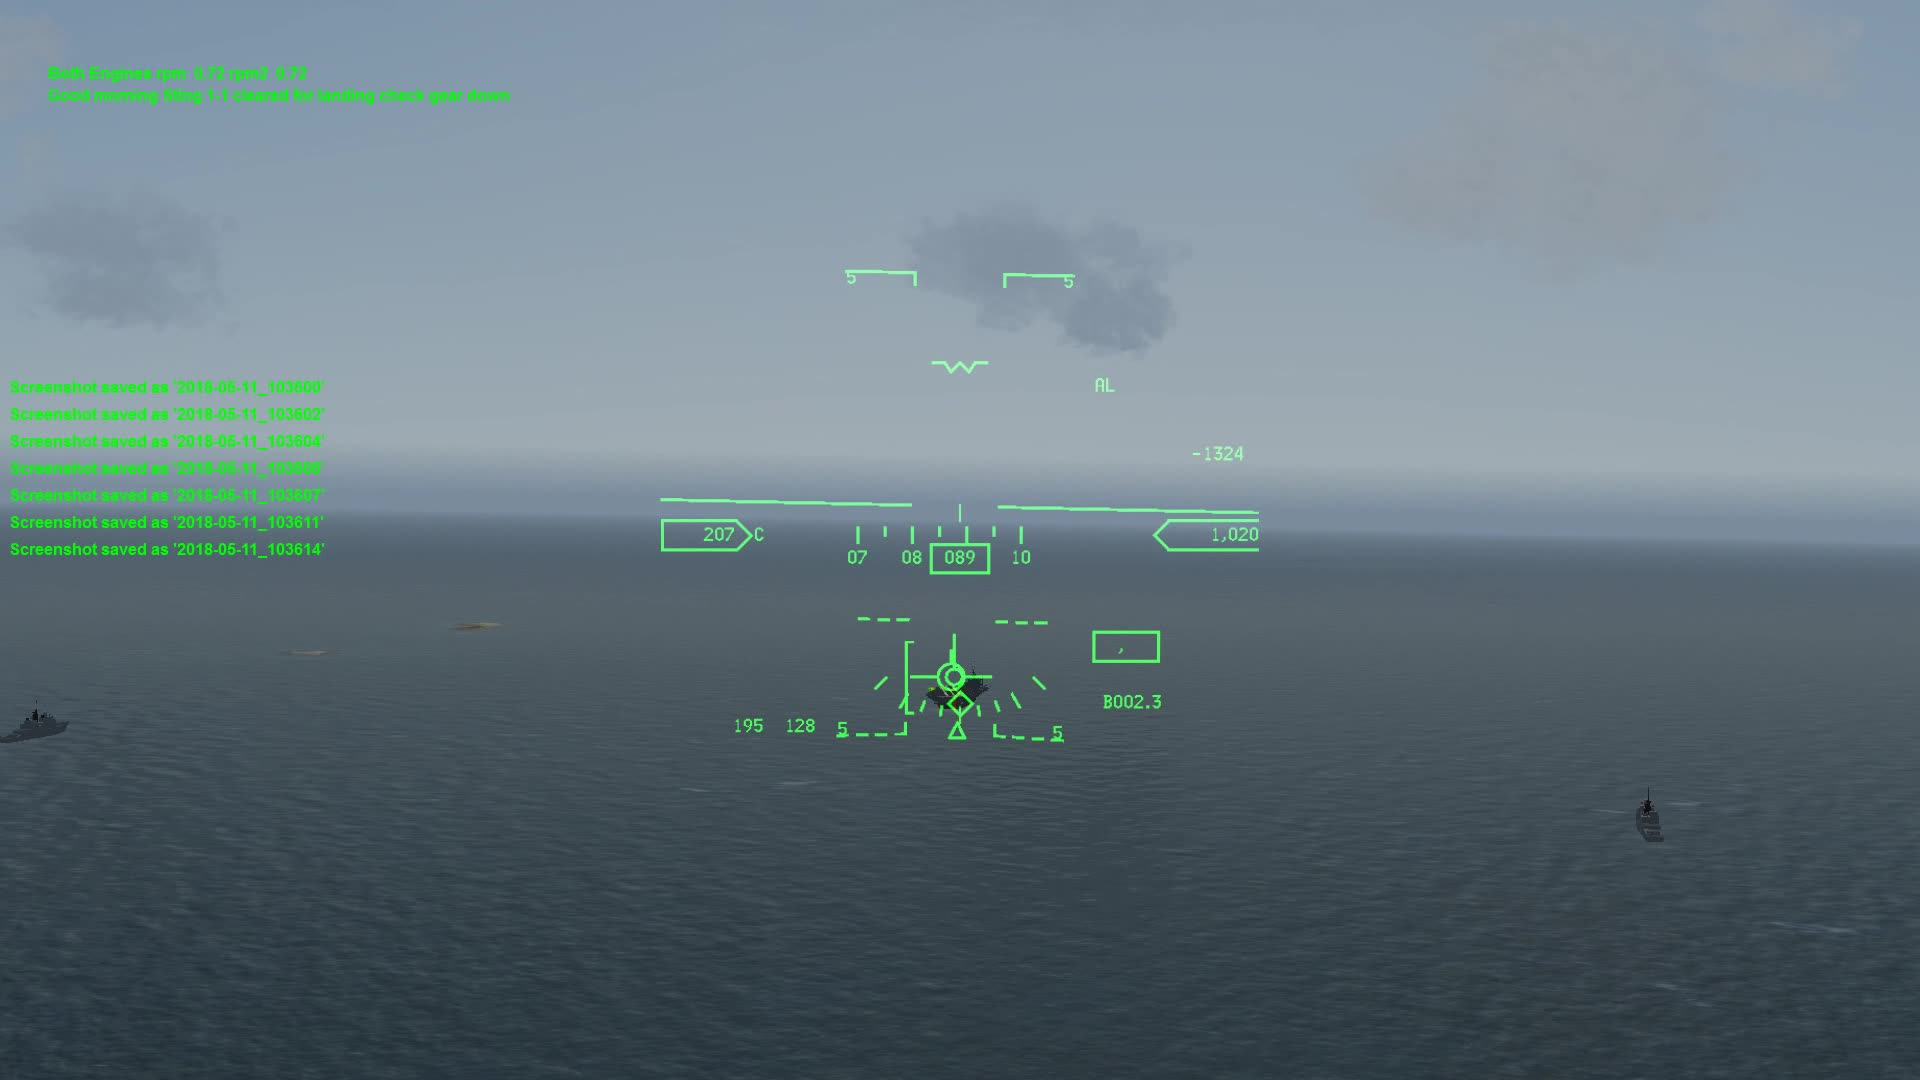speed vector: (913, 651, 997, 694)
